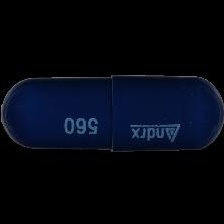55289-218: (0, 0, 224, 224)
